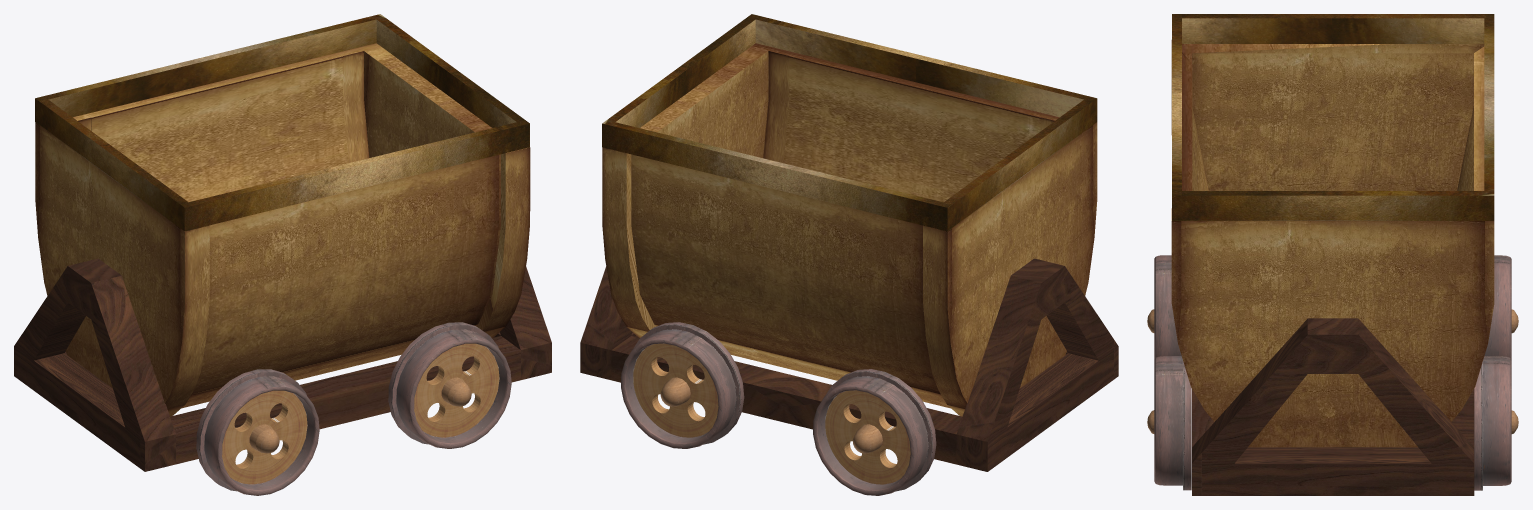
Rendered from mine-cart.FBX.
The picture shows the model from 3 angles, left to right: view 1: azimuth 30°, elevation 25°; view 2: azimuth 150°, elevation 25°; view 3: azimuth 270°, elevation 25°; orthographic projection. The views are drawn at different scales.
Visible parts, largest first — view 1: Box001, Box005, Box006, Cylinder004, Cylinder003; view 2: Box001, Box005, Box006, Cylinder005, Cylinder006; view 3: Box001, Box006, Box005, Cylinder004, Cylinder006, Cylinder005, Cylinder003.
Boxes of the visible parts, x1,y1,x2,y2 form: Box001: (35,43,530,416); Box005: (35,14,529,231); Box006: (14,258,551,471); Cylinder004: (388,322,511,448); Cylinder003: (196,369,319,495); Box001: (602,43,1097,416); Box005: (602,14,1097,231); Box006: (580,258,1118,471); Cylinder005: (813,369,936,495); Cylinder006: (621,322,744,448); Box001: (1171,40,1494,447); Box006: (1192,318,1474,495); Box005: (1172,14,1494,220); Cylinder004: (1147,356,1191,490); Cylinder006: (1474,356,1518,490); Cylinder005: (1484,255,1518,359); Cylinder003: (1147,255,1181,358).
Size of the model in its own units: 280 by 201 by 206.
Materials: 6 (6 with a texture image).
